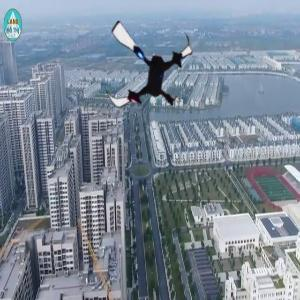drone: (94, 14, 201, 121)
